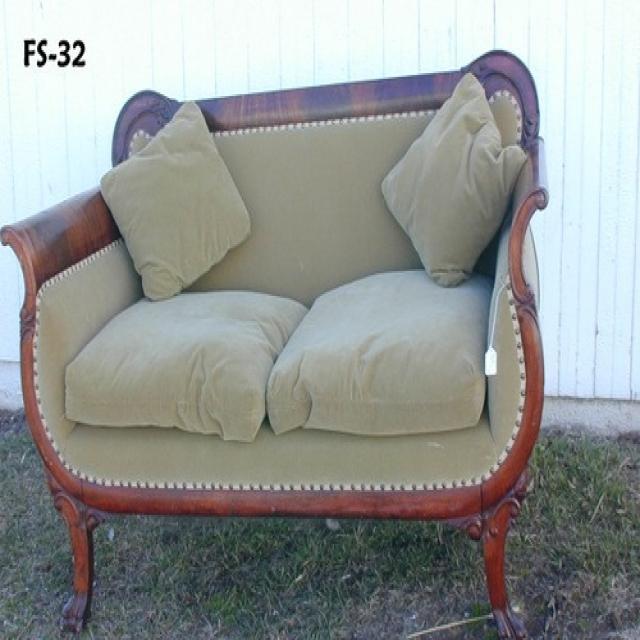sofa: (0, 48, 548, 638)
